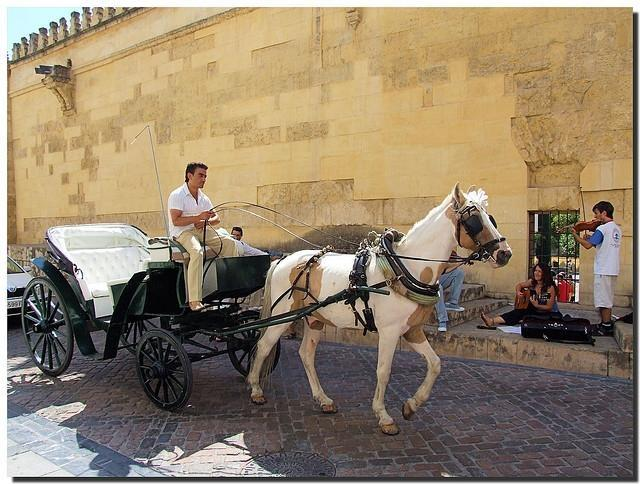car: (8, 255, 36, 317)
